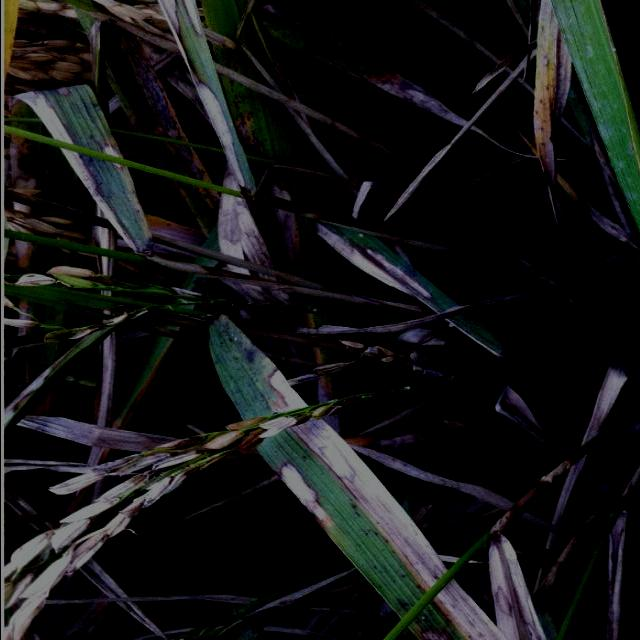Bacterial_Leaf_Blight: (262, 370, 508, 640), (103, 25, 220, 236), (16, 87, 153, 258), (157, 0, 255, 197), (232, 116, 312, 276), (313, 224, 434, 302)
